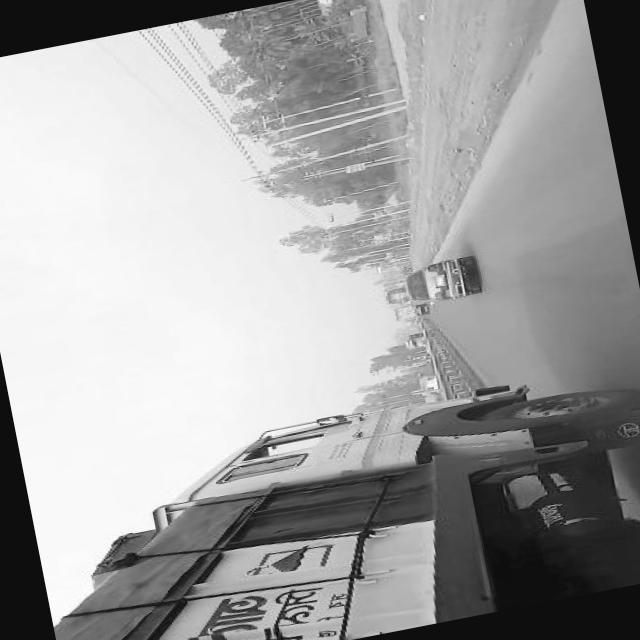car: (399, 252, 478, 307)
truck: (34, 344, 640, 640), (390, 302, 424, 320), (380, 286, 406, 304), (400, 332, 421, 348)
